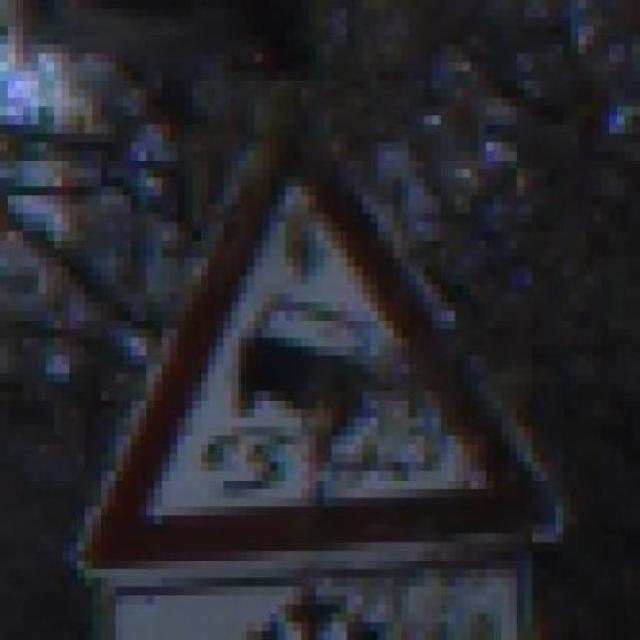Slippery Road Ahead: (54, 98, 571, 587)
